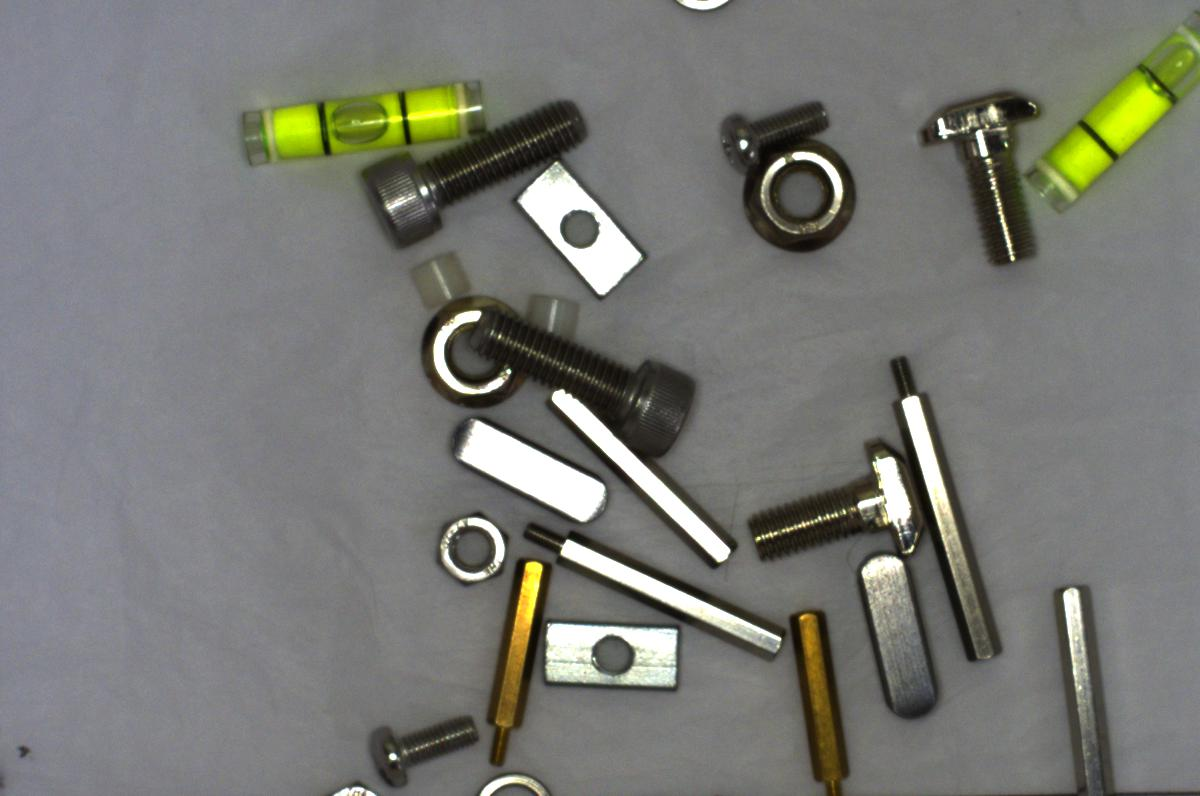Double hexagonal column: (544, 373, 737, 574), (1047, 574, 1121, 791)
Flange nut: (734, 133, 866, 264), (412, 289, 534, 409)
Hexagon nut: (428, 508, 505, 582)
Hexagon pillar: (480, 555, 556, 767), (792, 595, 864, 789)
Hexagon screw: (339, 91, 592, 248), (461, 308, 700, 458)
Hexagonal steel column: (525, 519, 783, 662)
Horizontal bubble: (1019, 24, 1192, 213), (237, 73, 492, 173)
Keybar: (435, 414, 615, 530), (851, 546, 955, 722)
Plastic cushion pillar: (402, 242, 476, 313), (524, 281, 583, 341)
Rectangular nut: (508, 149, 646, 306), (539, 609, 688, 691)
Round head screw: (364, 700, 487, 789), (712, 92, 839, 163)
T-shaped screw: (919, 46, 1060, 278), (744, 424, 925, 569)
